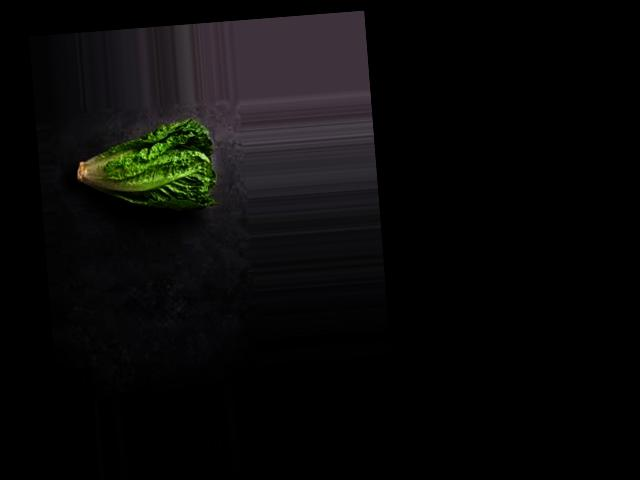lettuce: (83, 119, 215, 220)
